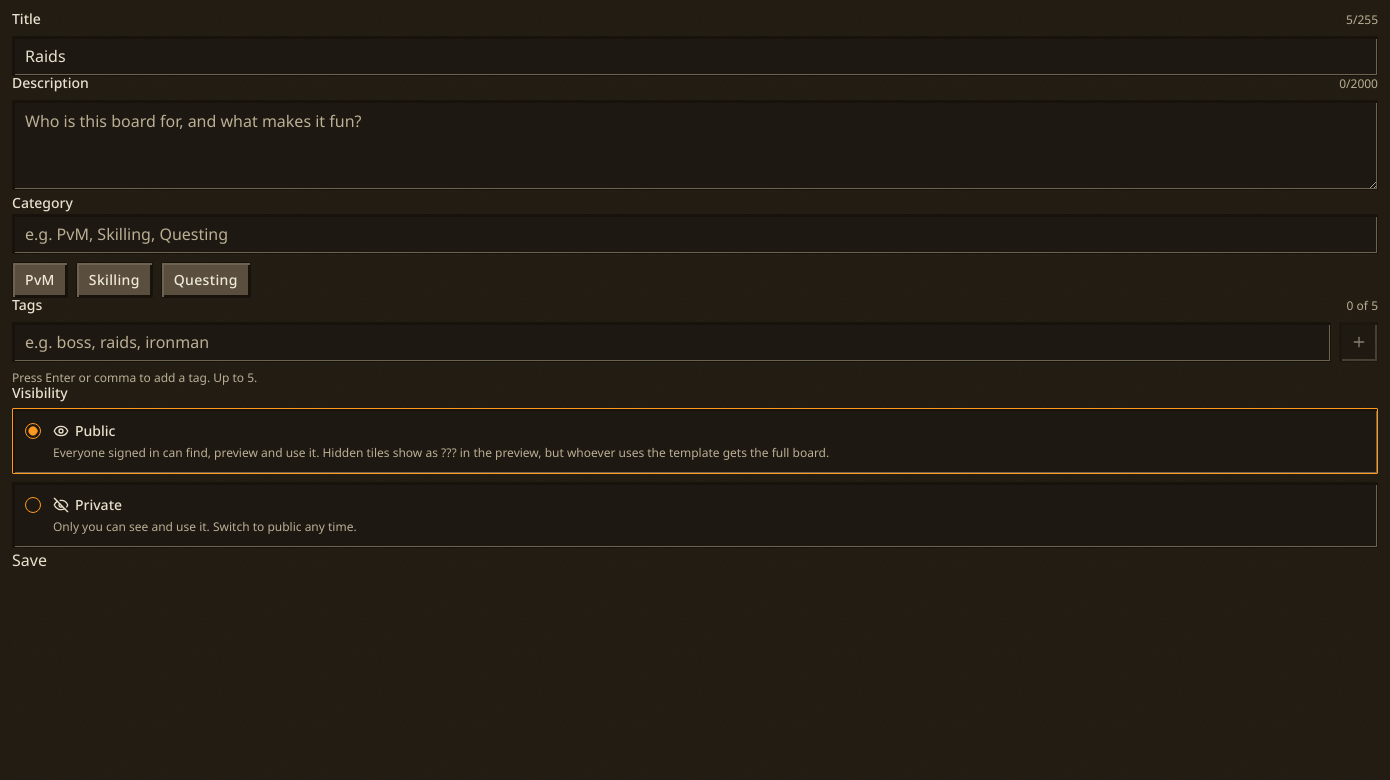
Scenario: TemplateDetailsFields › fills the category from a suggestion
The image size is (1390, 780).
Step 1. Click the button "Skilling" → (114, 280), box [76,262,153,298]
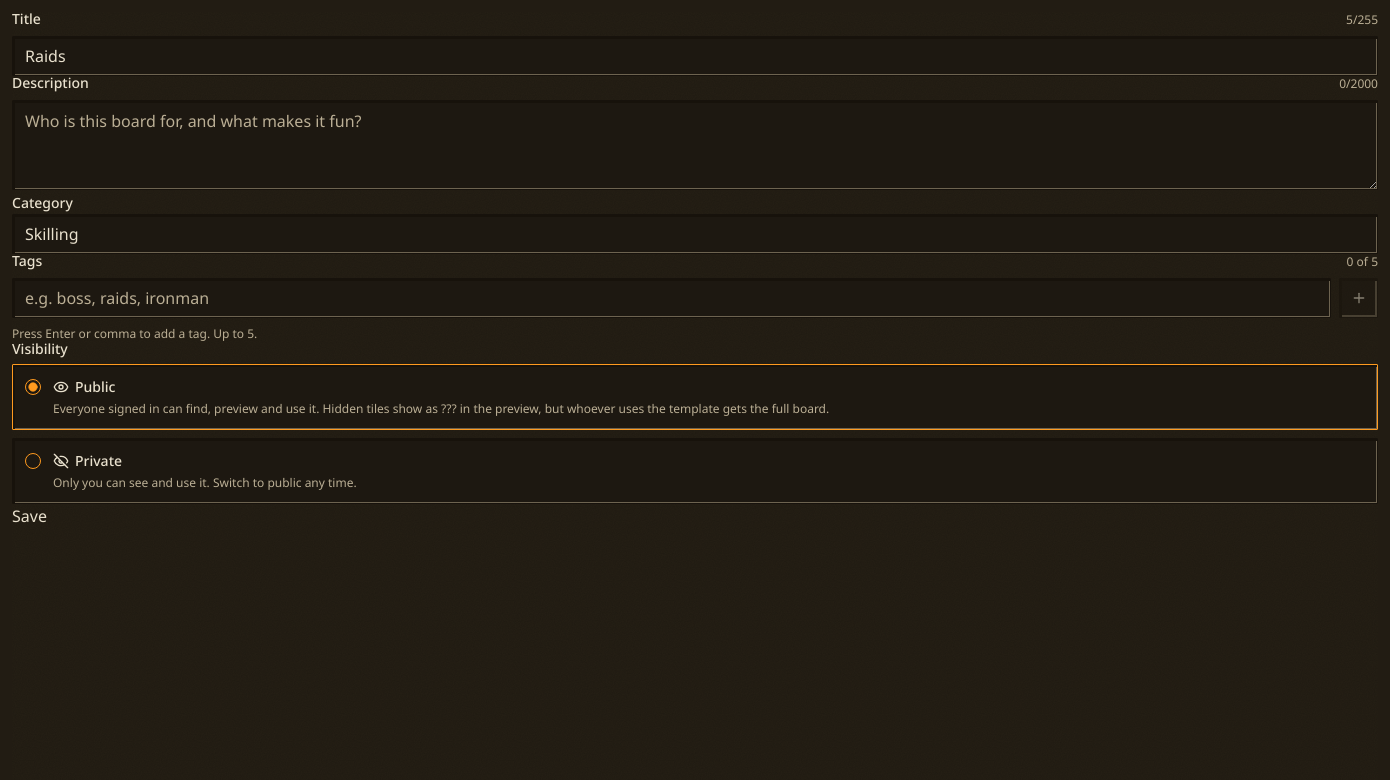
Expected: the field labelled "Category" holds "Skilling", [12,214,1378,254]
